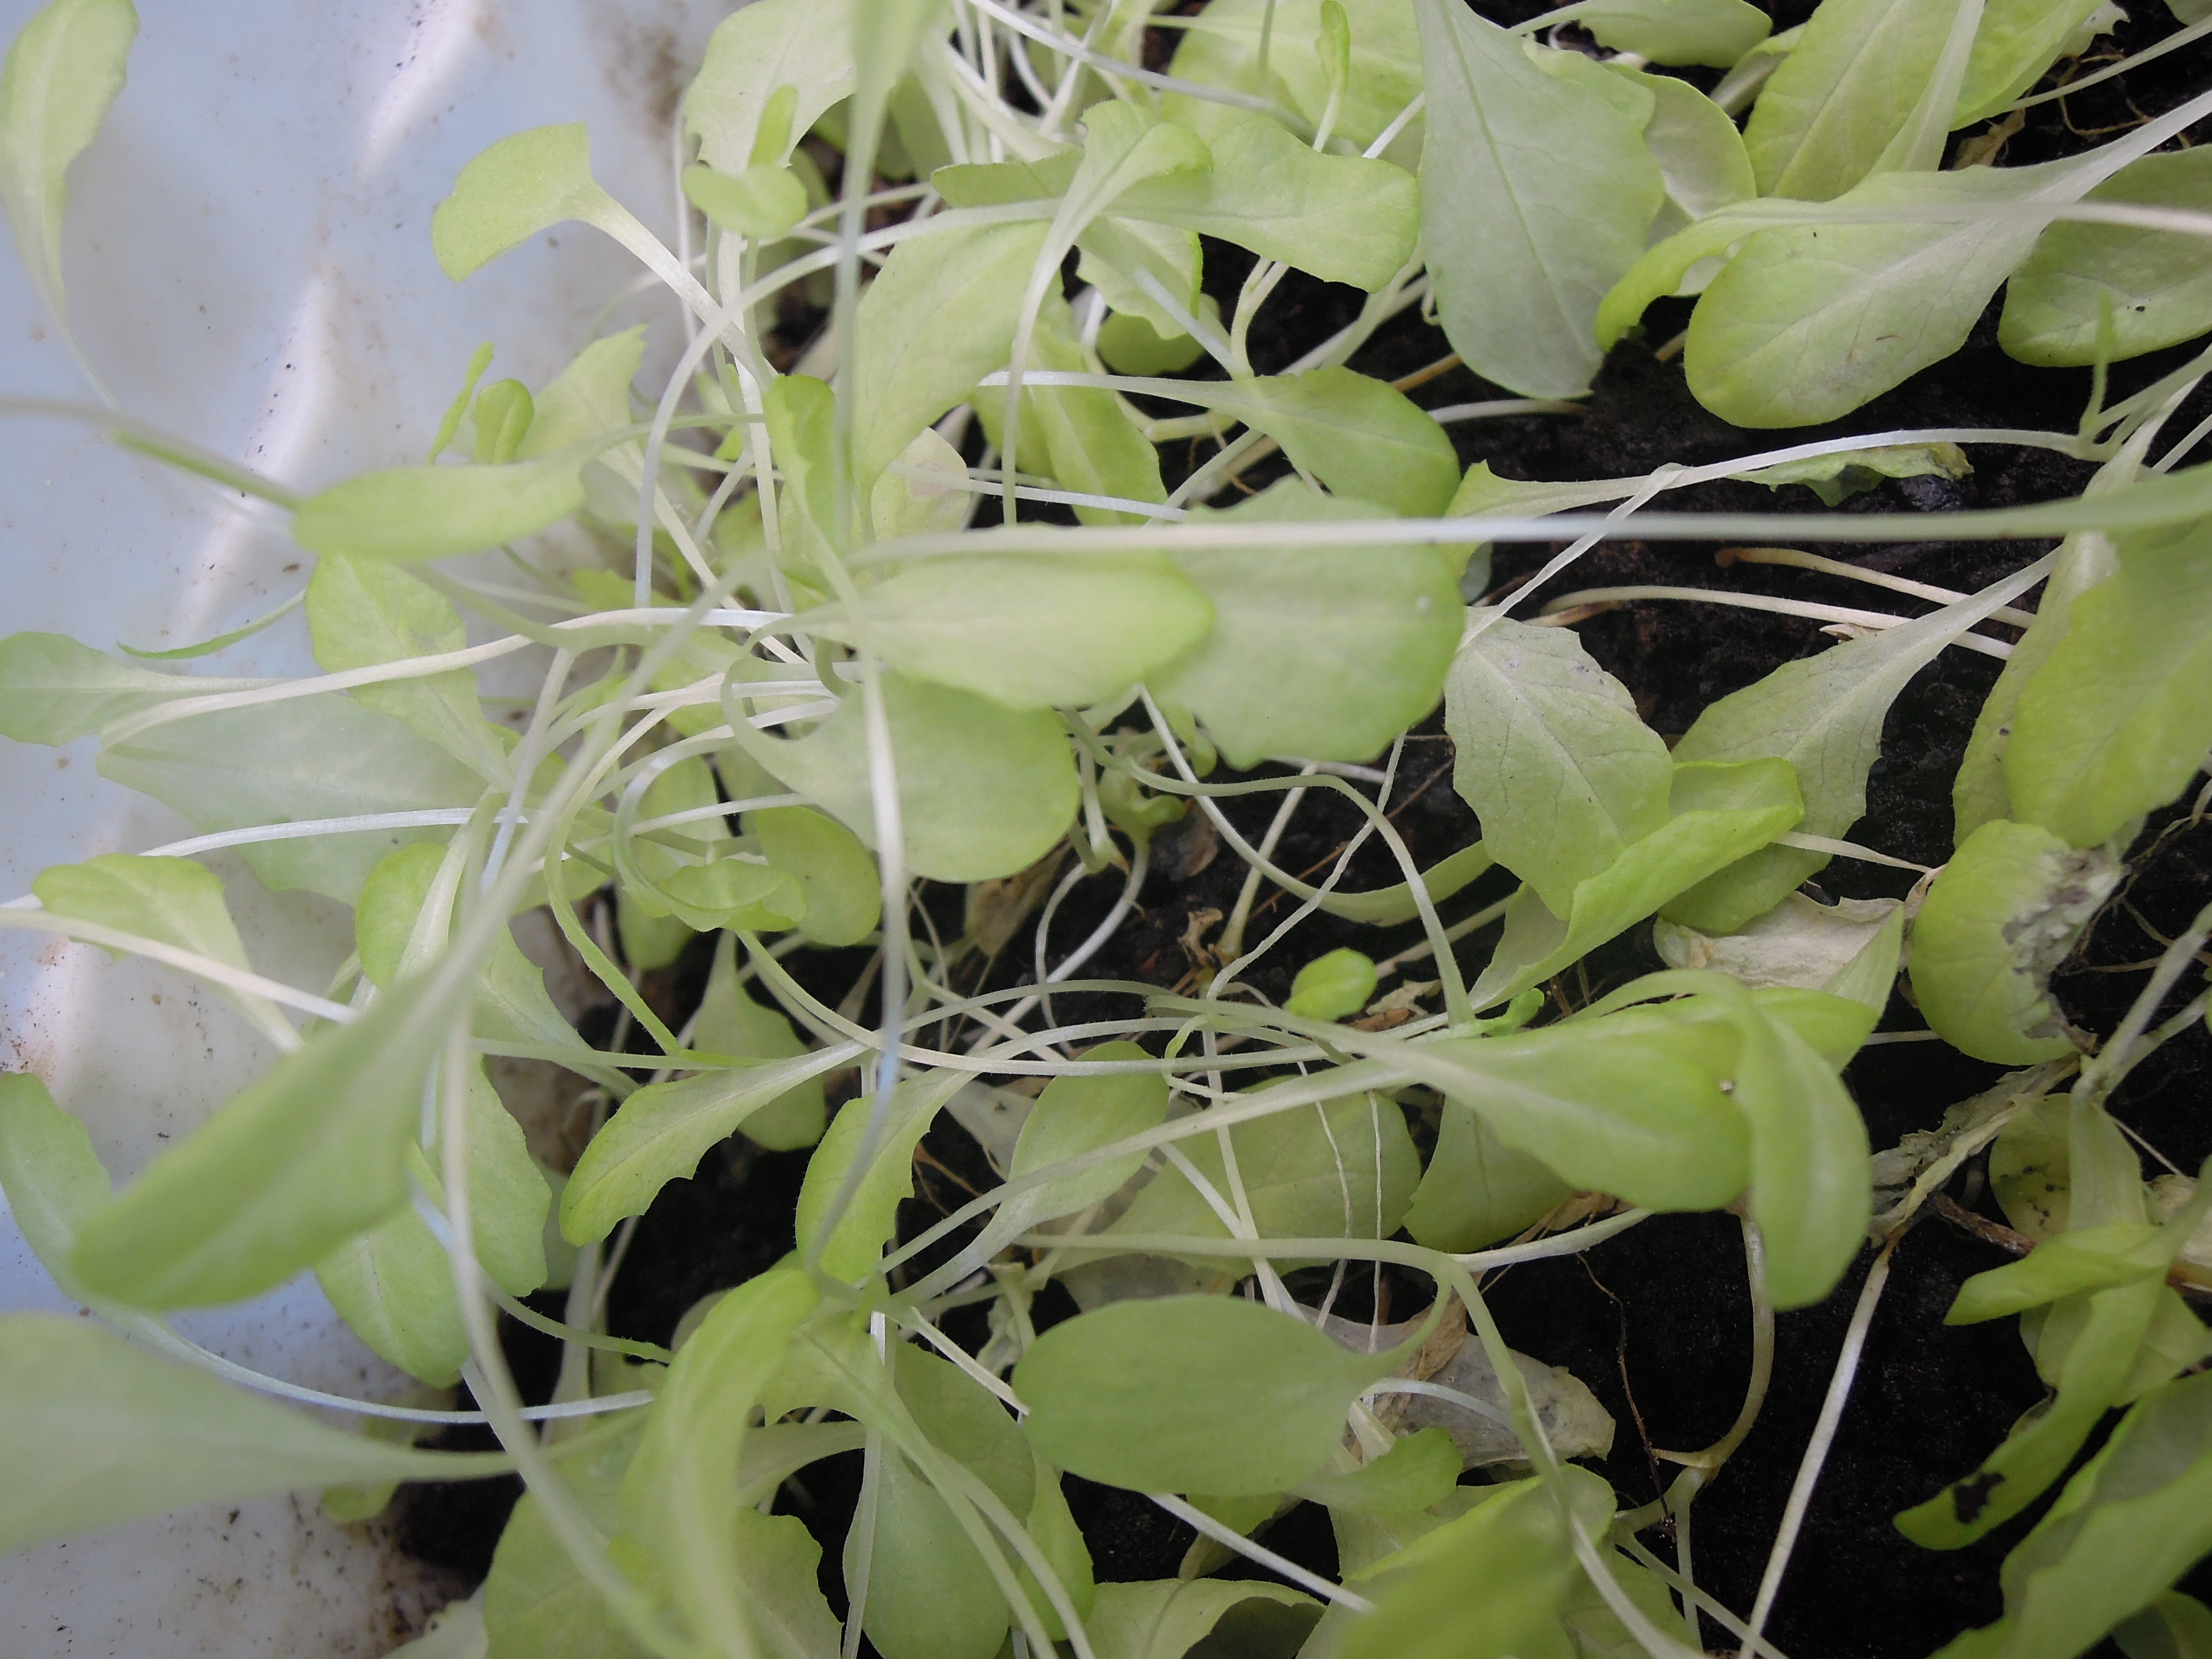weeek6: (247, 91, 1510, 1164)
